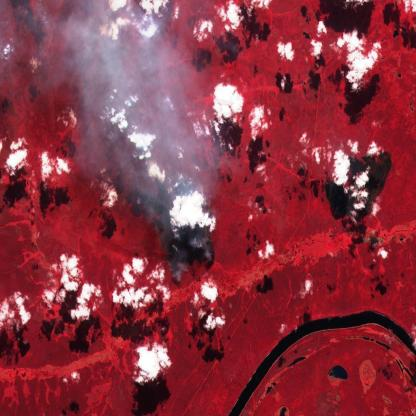fire: (141, 190, 216, 286), (328, 202, 366, 224)
